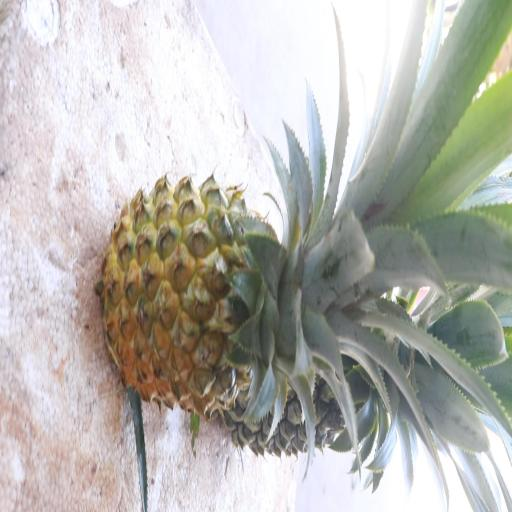Pineapple - v8 v1: (98, 170, 337, 420)
